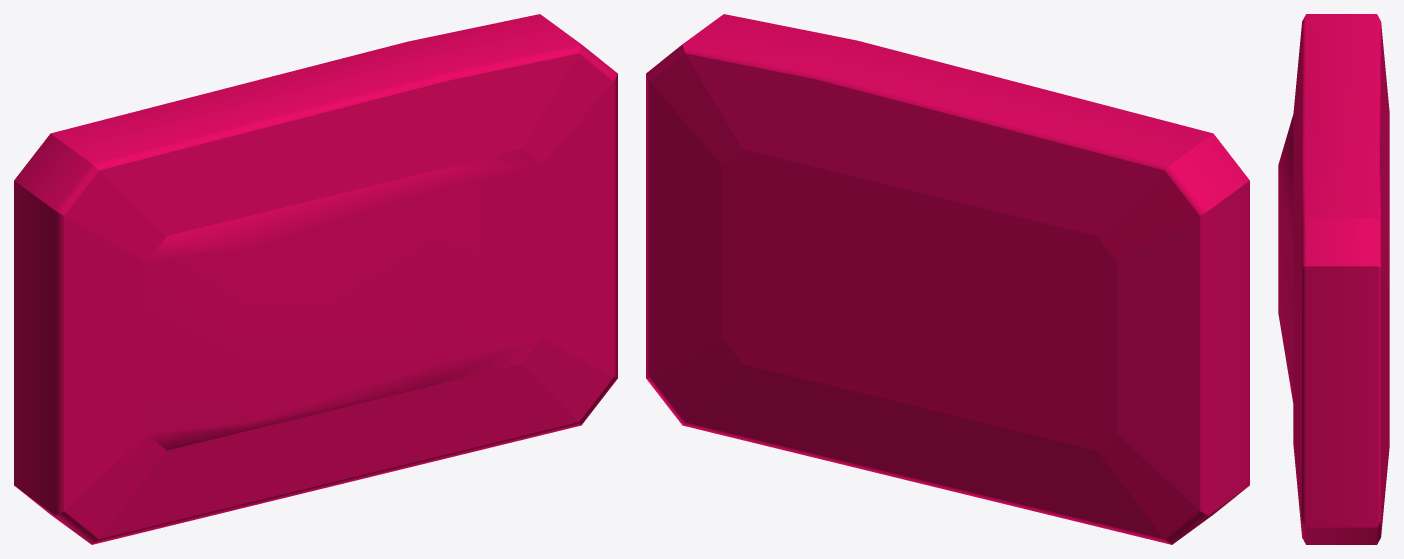
Rendered from Sofa_04_Pillow_01_Lod1.fbx.
3 views of the same model, side by side, from view 1: azimuth 30°, elevation 25°; view 2: azimuth 150°, elevation 25°; view 3: azimuth 270°, elevation 25° (orthographic). The views are drawn at different scales.
Parts seen in each view (by area): view 1: Sofa_04_Pillow_01_Lod1; view 2: Sofa_04_Pillow_01_Lod1; view 3: Sofa_04_Pillow_01_Lod1.
Part boxes in pixels (bbox=[...]): Sofa_04_Pillow_01_Lod1: bbox=[14, 14, 617, 544]; Sofa_04_Pillow_01_Lod1: bbox=[646, 14, 1249, 544]; Sofa_04_Pillow_01_Lod1: bbox=[1278, 14, 1389, 544].
Size of the model in its own units: 120 by 78.86 by 24.09.
